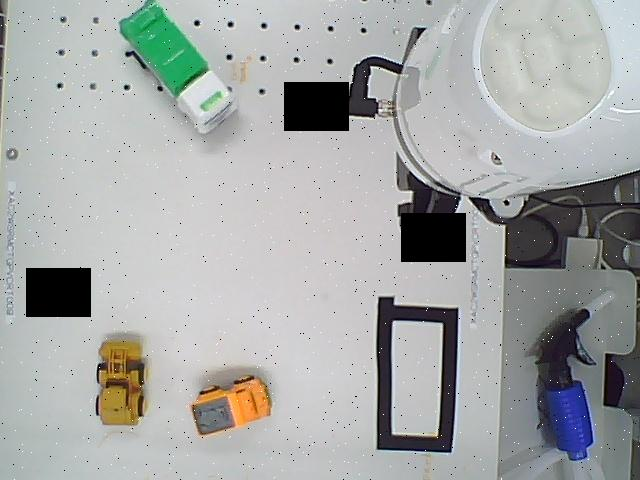Diesel car: (188, 367, 273, 435)
Electric car: (113, 2, 243, 142)
Gasoline car: (93, 333, 151, 432)
